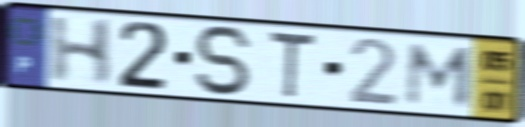2: (115, 18, 171, 94), (345, 35, 400, 107)
H: (48, 15, 117, 88)
M: (402, 40, 477, 109)
S: (191, 23, 257, 99)
T: (265, 28, 318, 103)
